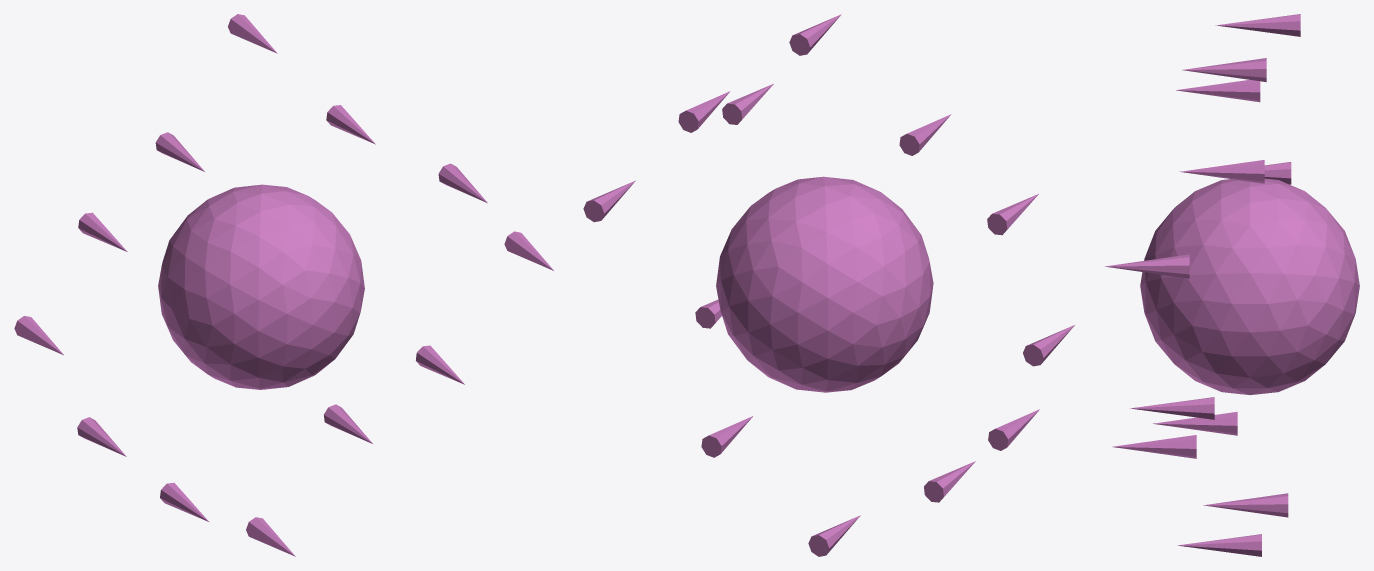
File: nature_153.glb
3 views of the same model, side by side, from view 1: azimuth 30°, elevation 25°; view 2: azimuth 150°, elevation 25°; view 3: azimuth 270°, elevation 25° (orthographic). The views are drawn at different scales.
Parts seen in each view (by area): view 1: world; view 2: world; view 3: world.
Boxes of the visible parts, left/top/right/bottom form: world: left=14, top=14, right=553, bottom=556; world: left=583, top=14, right=1074, bottom=556; world: left=1105, top=14, right=1359, bottom=556.
Size of the model in its own units: 2.38 by 2.45 by 1.05.
